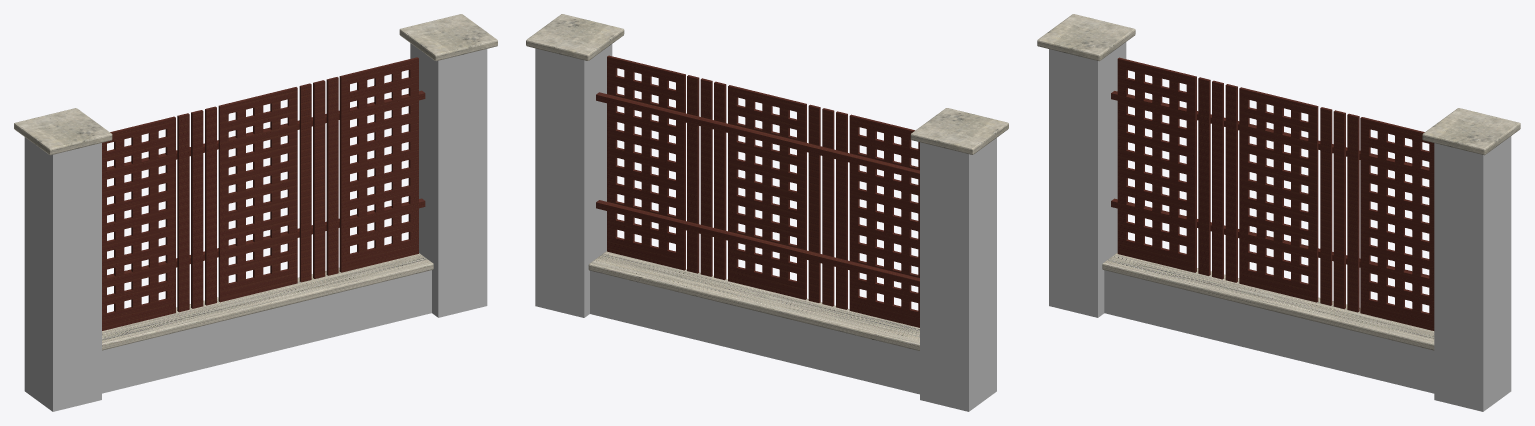
File: Fence 6.FBX
3 renders of one model, left to right at view 1: azimuth 30°, elevation 25°; view 2: azimuth 150°, elevation 25°; view 3: azimuth 330°, elevation 25°, orthographic.
Parts seen in each view (by area): view 1: fence 6, column 1, column 2; view 2: fence 6, column 1, column 2; view 3: fence 6, column 2, column 1.
Part boxes in pixels (x1,y1,x2,y2): fence 6: (102, 57, 433, 393); column 1: (14, 108, 112, 411); column 2: (399, 14, 497, 317); fence 6: (588, 55, 919, 394); column 1: (910, 108, 1008, 411); column 2: (526, 14, 624, 317); fence 6: (1102, 57, 1434, 393); column 2: (1422, 108, 1520, 411); column 1: (1037, 14, 1135, 317).
Bounding box in the file's own units: 137 × 19.29 × 78.34.
